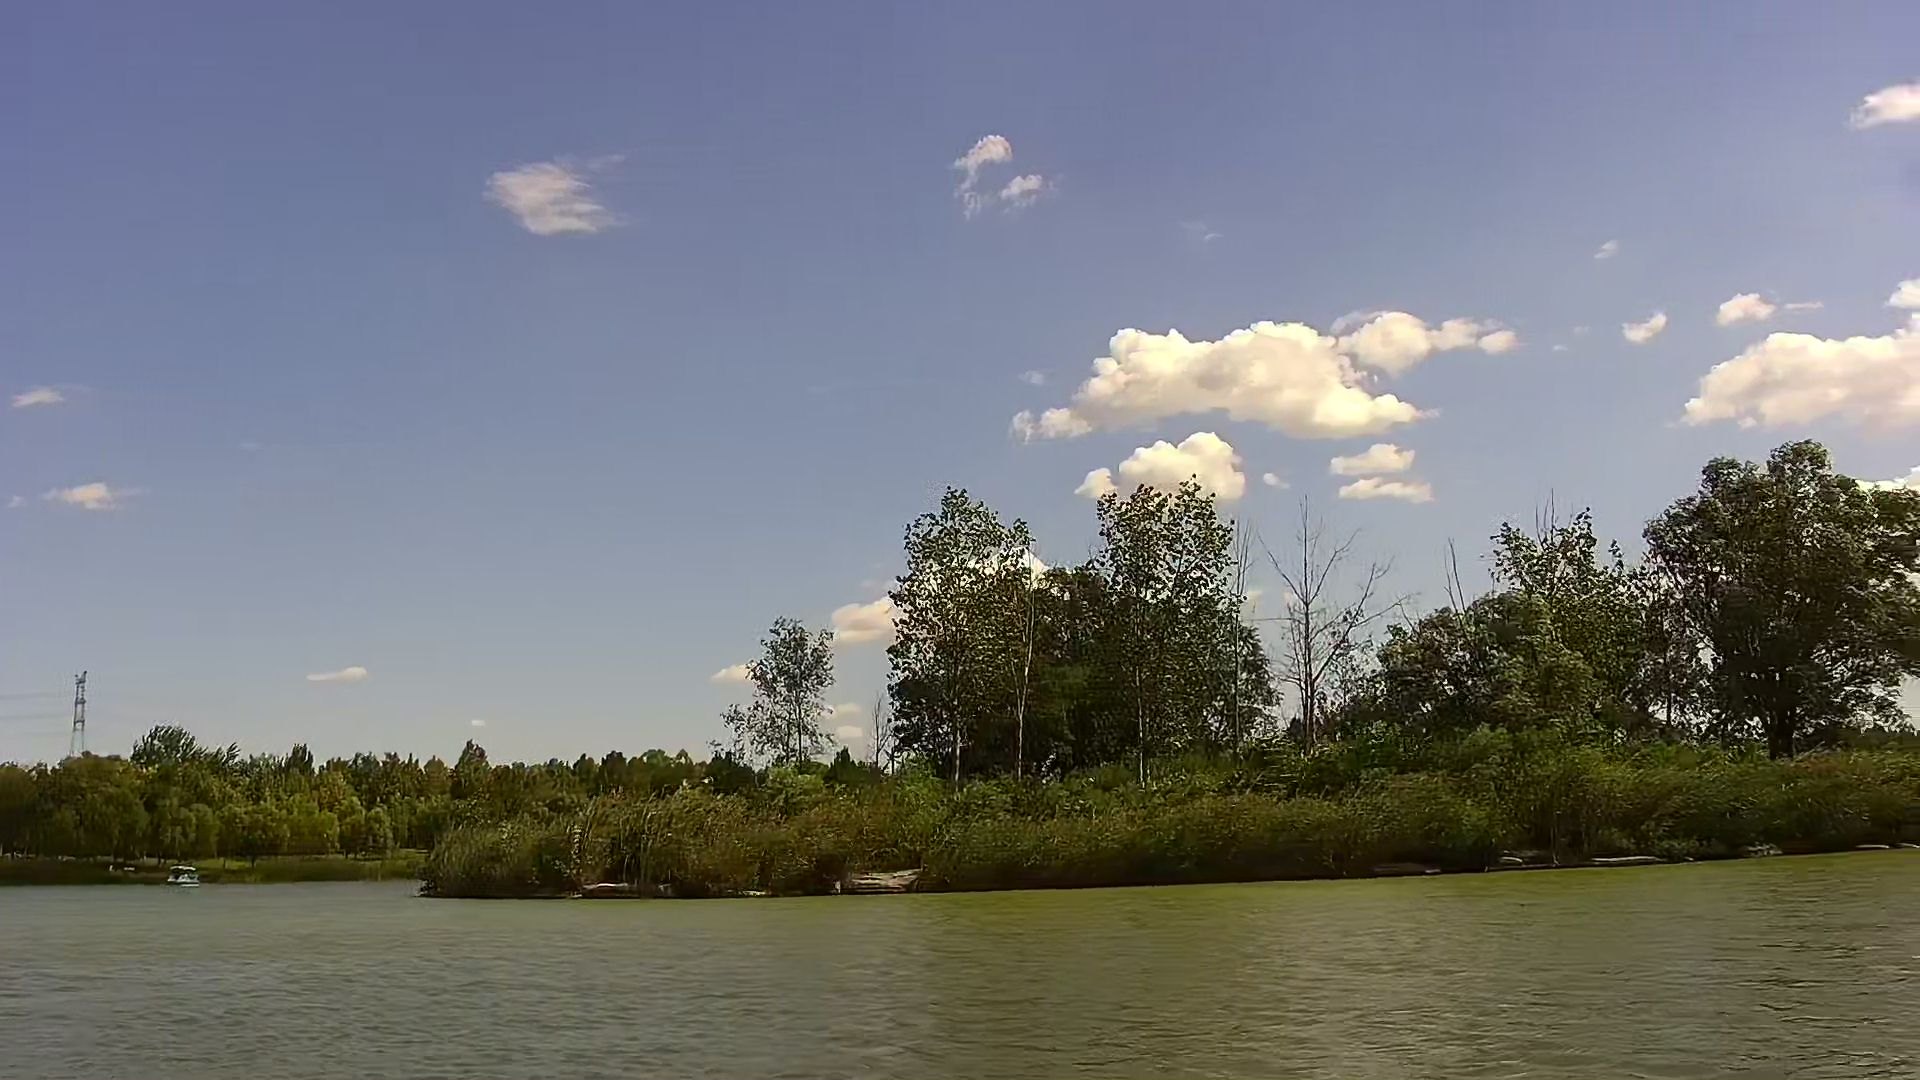boat: (160, 862, 200, 887)
